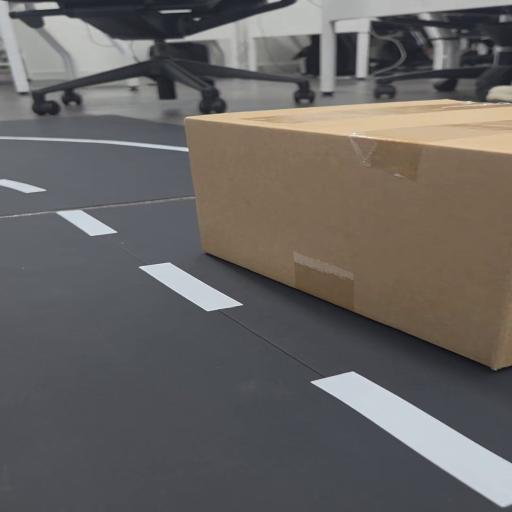Box: (197, 89, 512, 374)
